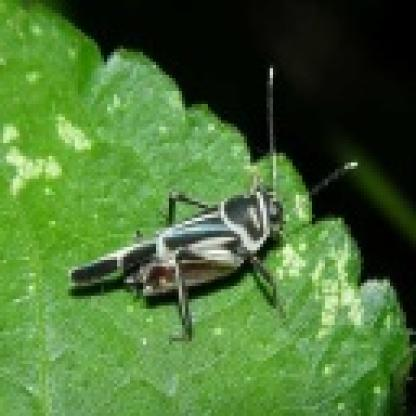grasshopper: (46, 58, 335, 346)
